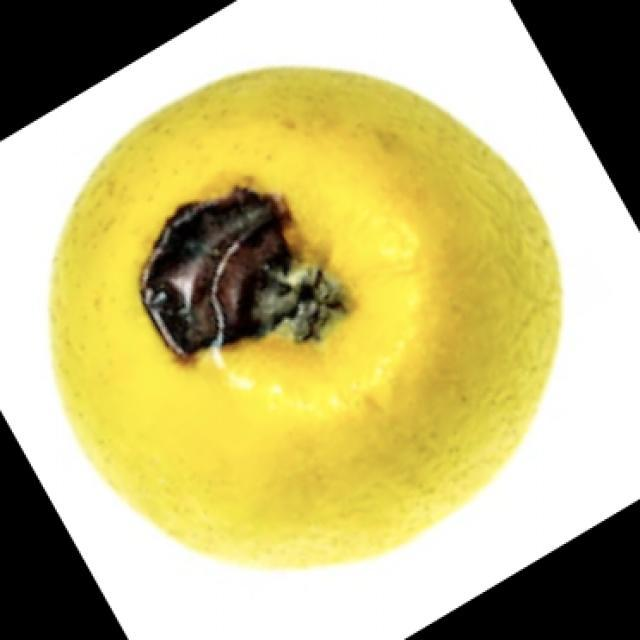Rotten: (75, 65, 520, 520)
